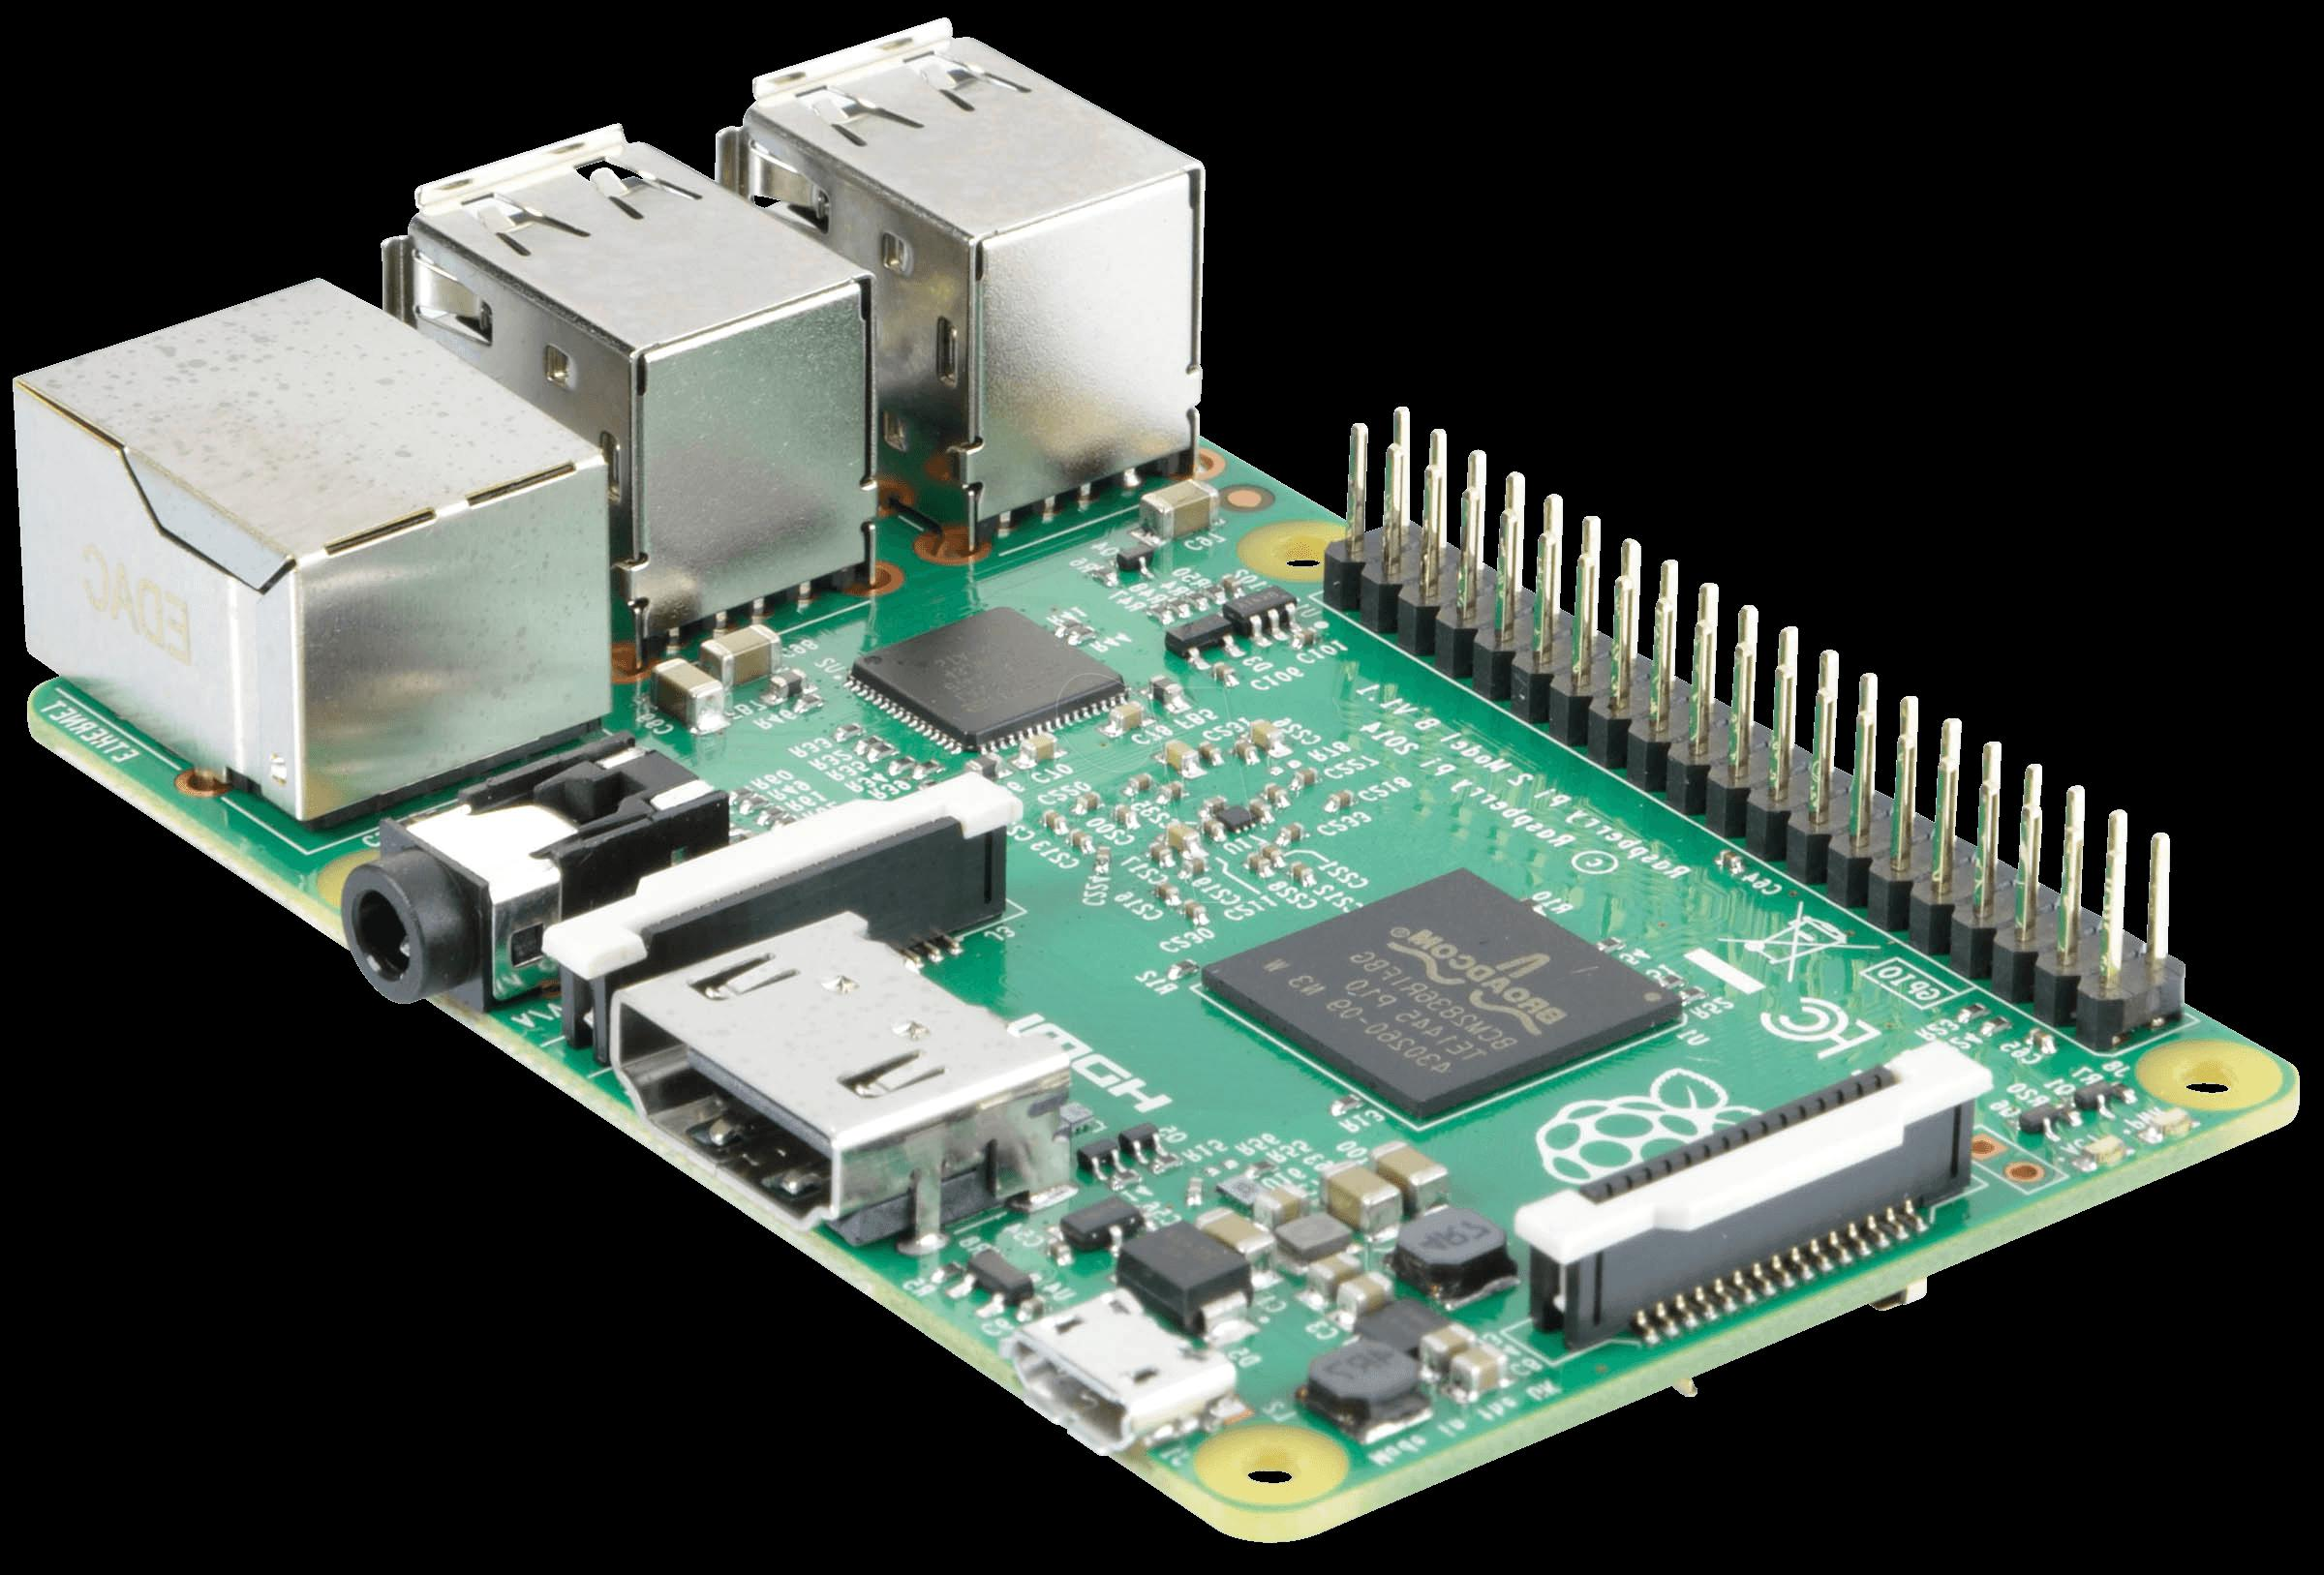audiojack: (336, 731, 742, 1020)
bchi: (1199, 868, 1679, 1106)
ethernet: (18, 274, 615, 821)
gpio: (1320, 406, 2190, 1048)
usb: (737, 21, 1202, 529), (394, 130, 879, 610)
